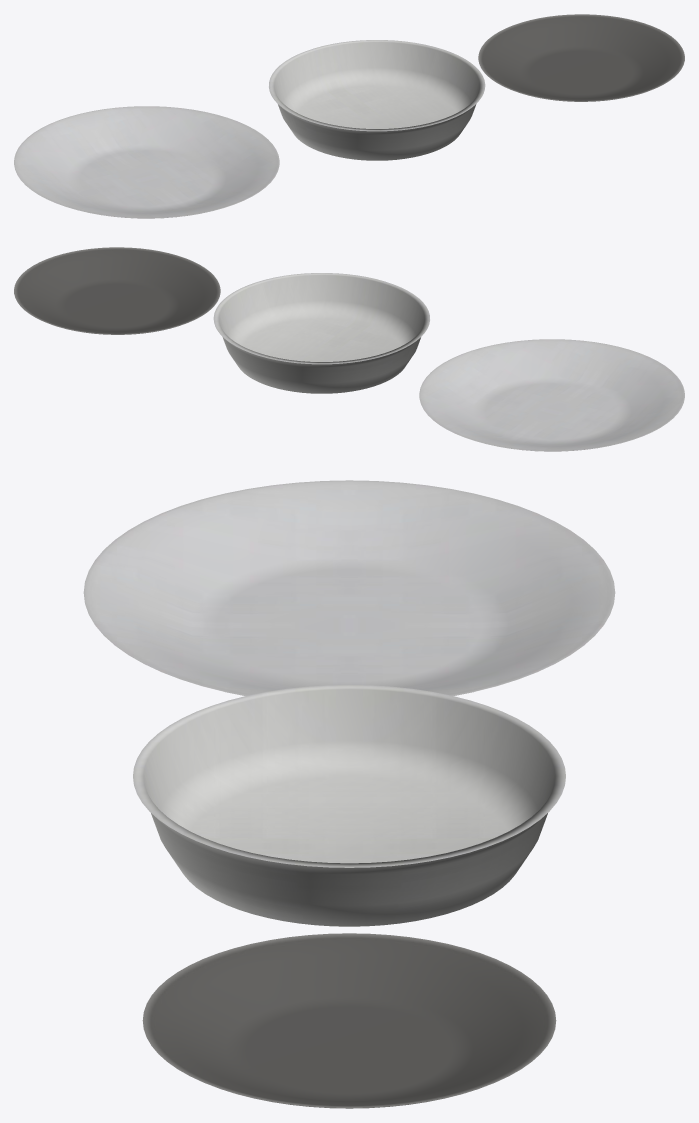
Rendered from RAY-12.glb.
The picture shows the model from 3 angles, top to bottom: view 1: azimuth 30°, elevation 25°; view 2: azimuth 150°, elevation 25°; view 3: azimuth 270°, elevation 25°; orthographic projection. The views are drawn at different scales.
Bounding box in the file's own units: 0.75 × 0.045 × 0.27.
6 materials, 6 textured.
